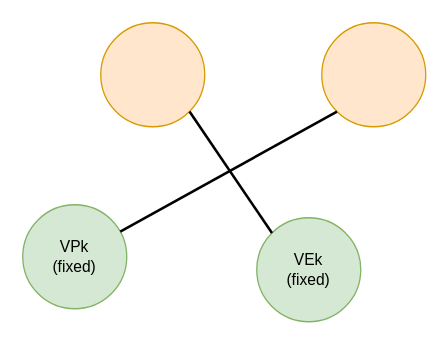
The diagram is 448 pixels wide and 345 high, and some of its shapes have lost their labels. Each missing label, with the centre of its shape:
"VE (not fixed)" belongs at point 373,74.
"VP (not fixed)" belongs at point 152,74.
